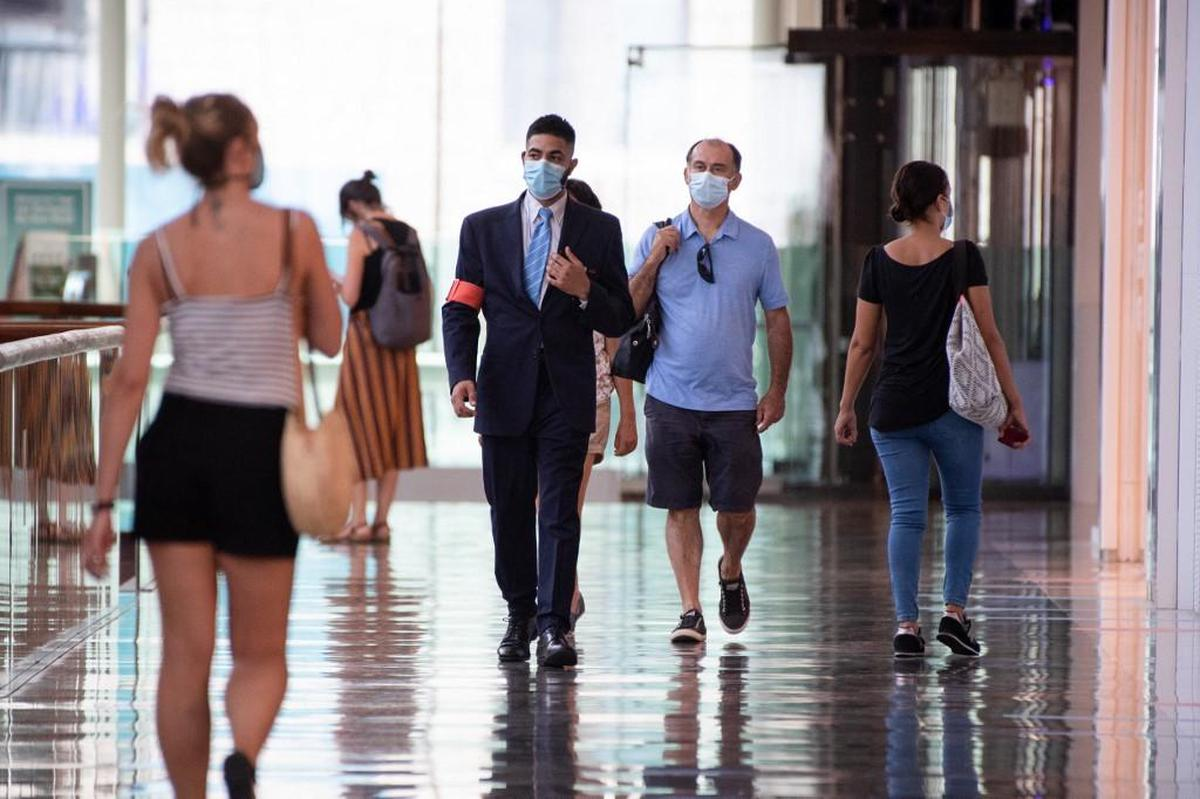with_mask: (683, 142, 741, 225), (515, 138, 567, 205)
